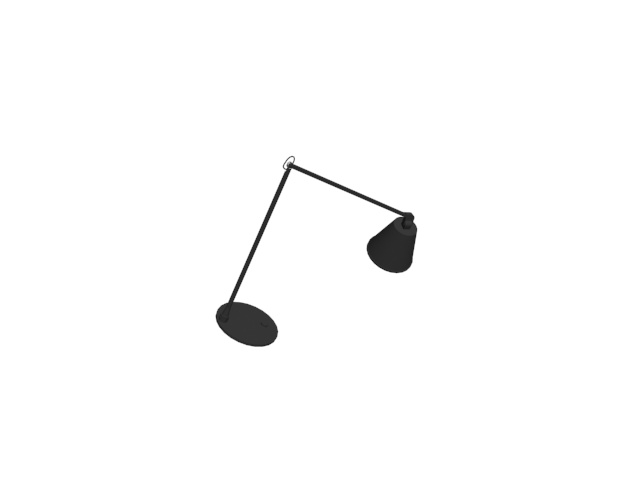desk_lamp: (209, 153, 424, 352)
